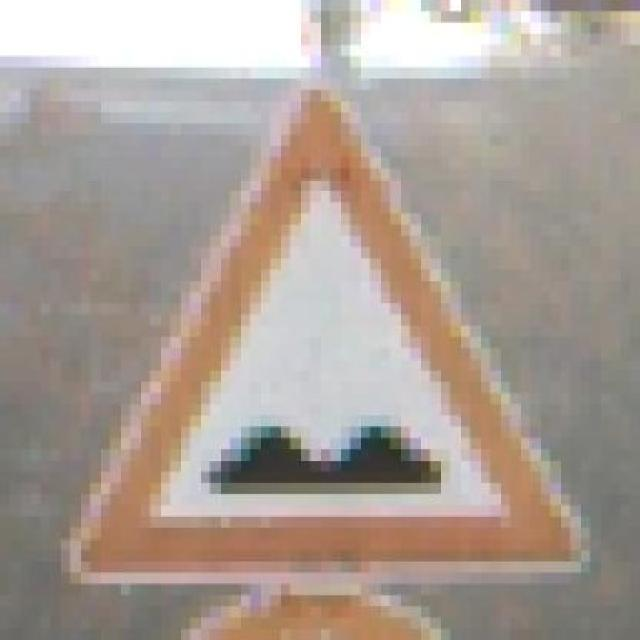Uneven Road: (70, 67, 601, 573)
